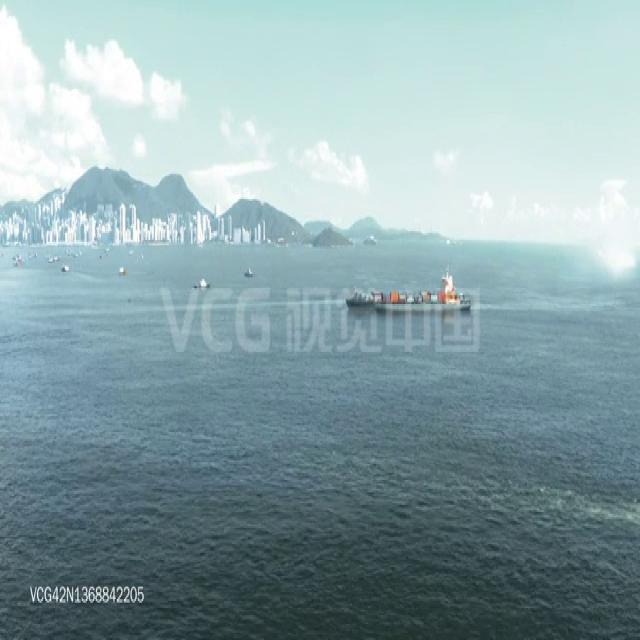cargoship: (340, 250, 483, 334)
